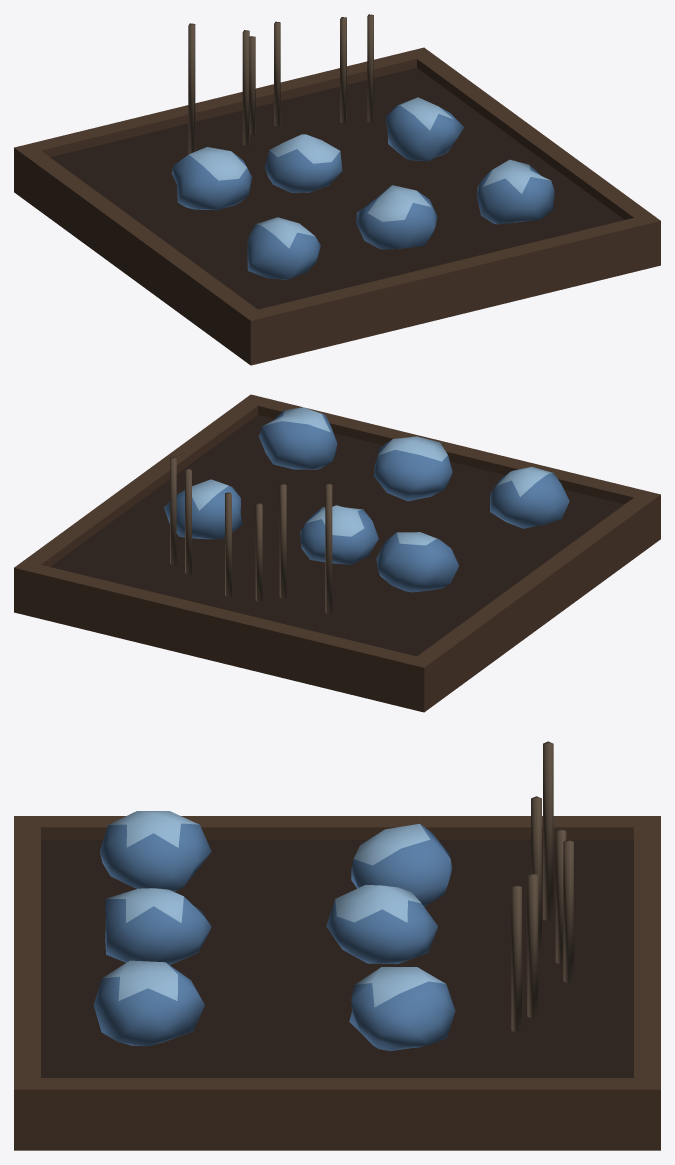
The model's file is garden_bed.glb.
The picture shows the model from 3 angles, top to bottom: view 1: azimuth 30°, elevation 25°; view 2: azimuth 150°, elevation 25°; view 3: azimuth 270°, elevation 25°; orthographic projection. The views are drawn at different scales.
Parts seen in each view (by area): view 1: garden_bed; view 2: garden_bed; view 3: garden_bed.
Part boxes in pixels (x1,y1,x2,y2): garden_bed: (14, 14, 660, 365); garden_bed: (14, 394, 660, 712); garden_bed: (14, 741, 660, 1150).
Size of the model in its own units: 0.96 by 0.3676 by 0.96.
